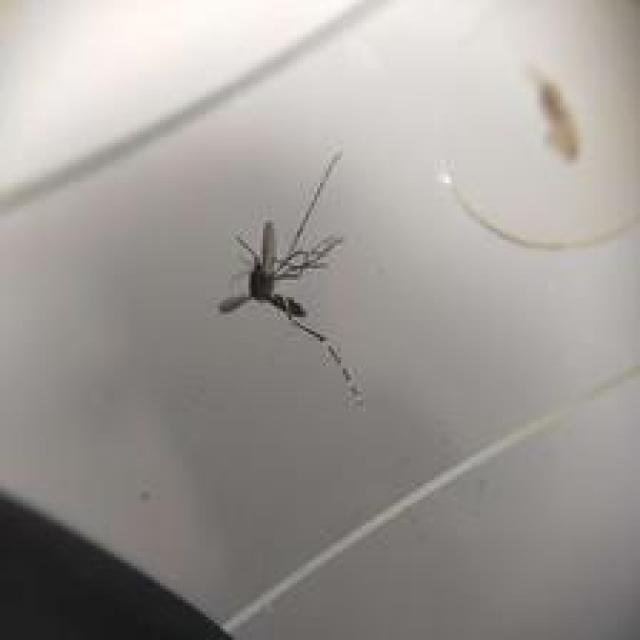Aedes albopictus: (214, 148, 366, 408)
